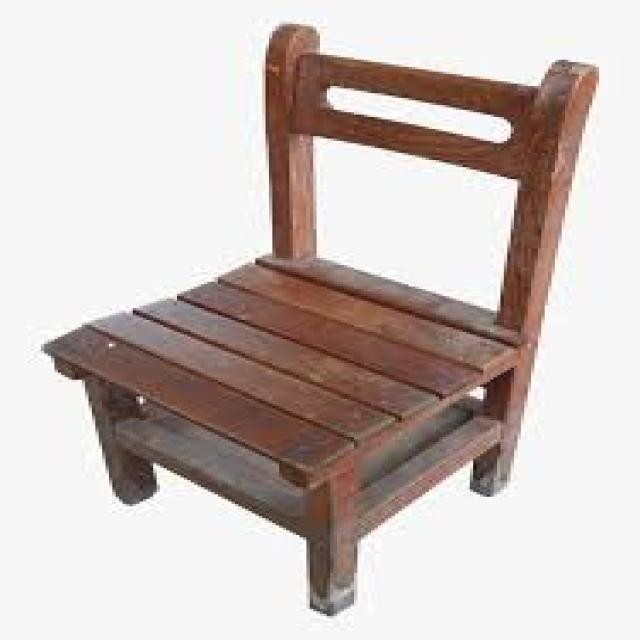chair: (42, 24, 599, 621)
